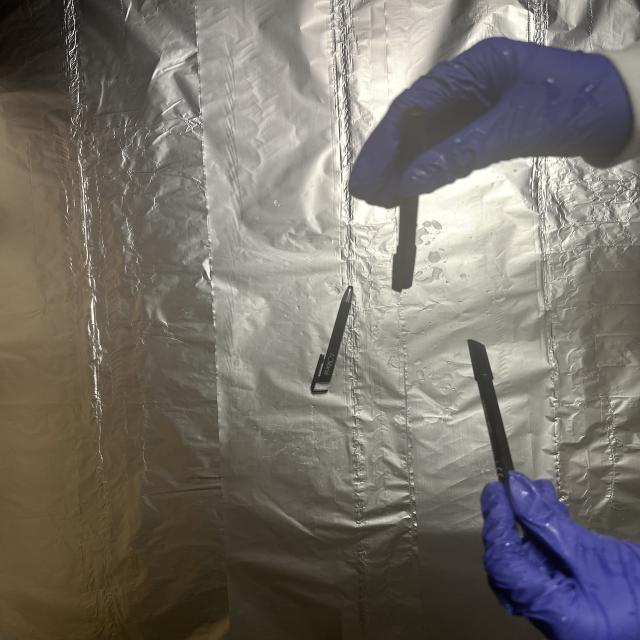gloves_contaminated: (350, 38, 633, 206), (481, 471, 640, 640)
